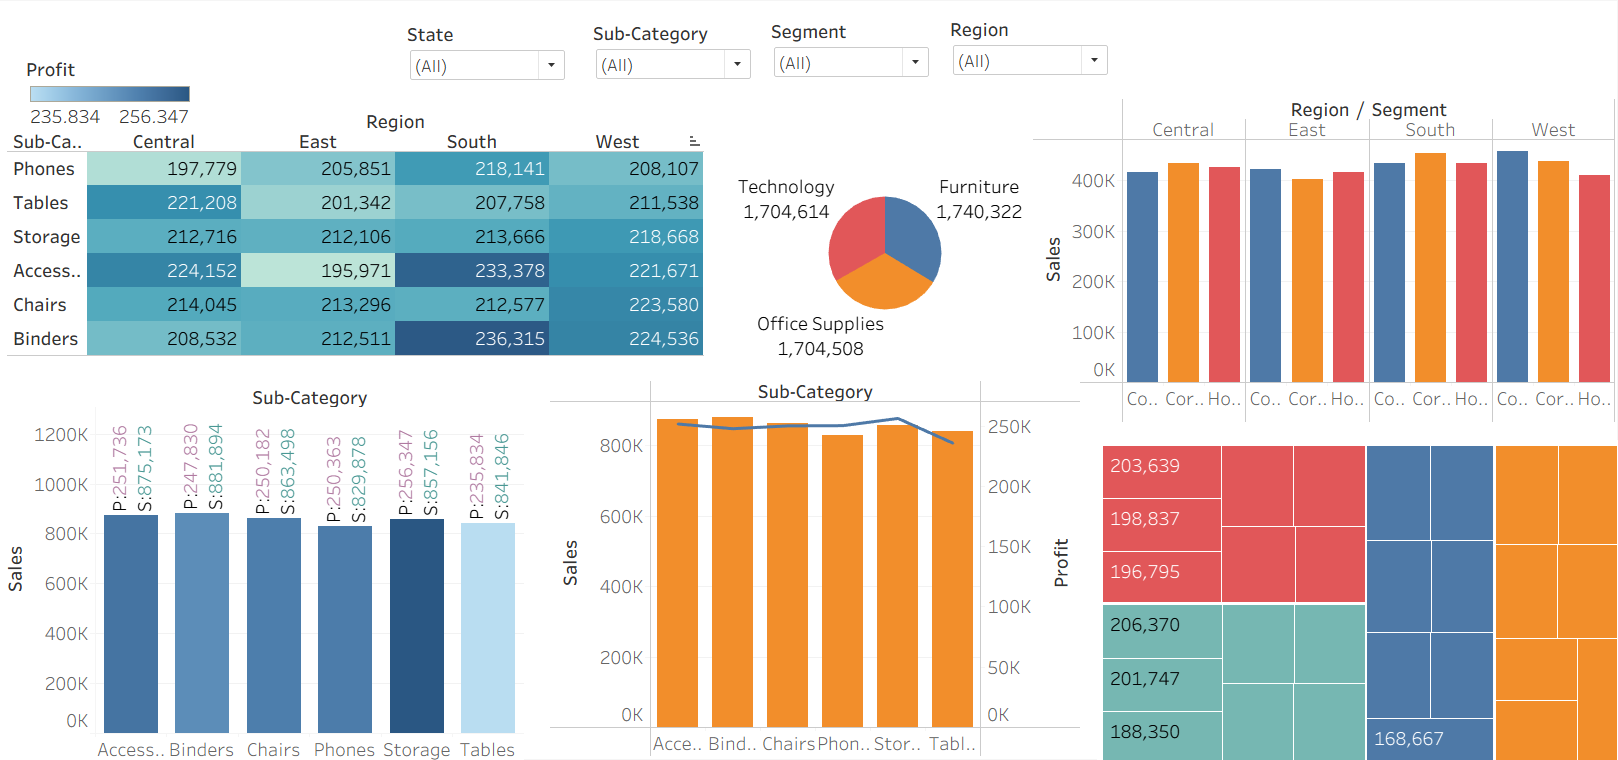

What the dashboard file says about the page in this screenshot:
{"tool":"tableau","page":{"name":"Dashboard 2","canvas":[1000,1000],"units":"permille","ordinal":1},"visuals":[{"type":"filter","title":"Heat Map","param":"[federated.18e6yml1lh1imm14ekm8a1qggpzv].[none:Region:nk]","box":[587.3,19.8,99.8,98.9]},{"type":"filter","title":"Clustured Bar Chart","param":"[federated.18e6yml1lh1imm14ekm8a1qggpzv].[none:Segment:nk]","box":[476.3,22.4,99.8,92.4]},{"type":"filter","title":"Clustured Bar Chart","param":"[federated.18e6yml1lh1imm14ekm8a1qggpzv].[none:Sub-Category:nk]","box":[366.6,25.1,99.8,101.6]},{"type":"filter","title":"Bar Chart","param":"[federated.18e6yml1lh1imm14ekm8a1qggpzv].[none:State:nk]","box":[251.2,26.4,99.8,102.9]},{"type":"legend","title":"Bar Chart","param":"[federated.18e6yml1lh1imm14ekm8a1qggpzv].[sum:Profit:qk]","box":[16.2,72.6,104.1,88.4]},{"type":"worksheet","title":"Clustured Bar Chart","mark":"Automatic","rows":["Sales"],"cols":["Region","Segment"],"box":[638.4,129.3,360.4,427.4]},{"type":"worksheet","title":"Highlighted Tables","mark":"Square","rows":["Sub-Category"],"cols":["Region"],"box":[4.4,145.1,435.8,327.2]},{"type":"worksheet","title":"PIE 3","mark":"Pie","box":[453.9,183.4,186.4,298.2]},{"type":"worksheet","title":"Dual axis chart","mark":"Automatic","rows":["Sales","Profit"],"cols":["Sub-Category"],"box":[339.8,501.3,327.9,496]}]}

Visuals, with their boxes on the dashboard's canvas, which has no fixed pixel size, in thousandths of its width and height (x1, y1, x2, y2). These are canvas units, not pixel positions in the 1618x760 screenshot, which may show the page scaled, cropped or inside an application window:
"Heat Map" filter: bbox=(587, 20, 687, 119)
"Clustured Bar Chart" filter: bbox=(476, 22, 576, 115)
"Clustured Bar Chart" filter: bbox=(367, 25, 466, 127)
"Bar Chart" filter: bbox=(251, 26, 351, 129)
"Bar Chart" legend: bbox=(16, 73, 120, 161)
"Clustured Bar Chart" worksheet: bbox=(638, 129, 999, 557)
"Highlighted Tables" worksheet (Square marks): bbox=(4, 145, 440, 472)
"PIE 3" worksheet (Pie marks): bbox=(454, 183, 640, 482)
"Dual axis chart" worksheet: bbox=(340, 501, 668, 997)
